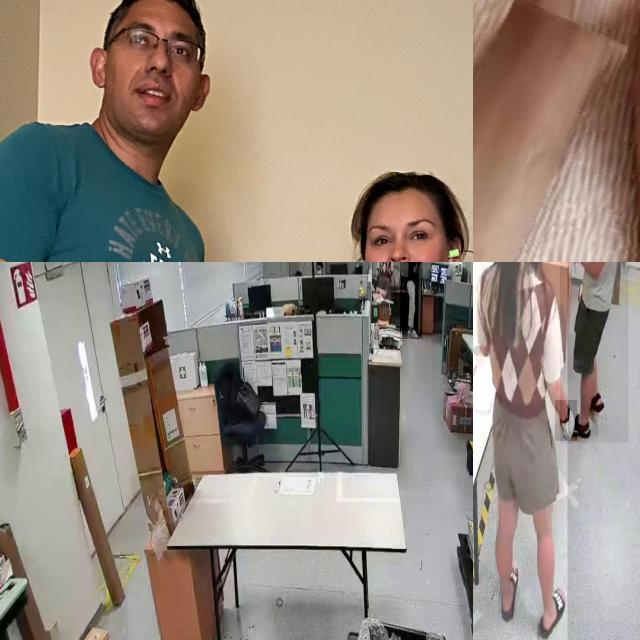Barefoots: (473, 0, 618, 262)
No_Ear-Protection: (87, 47, 107, 89), (190, 74, 212, 110)
No_Glasses: (366, 215, 436, 251)
hand_glove: (555, 400, 577, 442)
person: (473, 262, 568, 640), (560, 262, 629, 443), (400, 262, 423, 340)
shoes: (406, 325, 420, 344)
